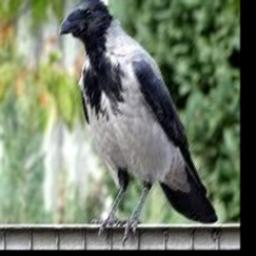Crow: (60, 0, 218, 246)
